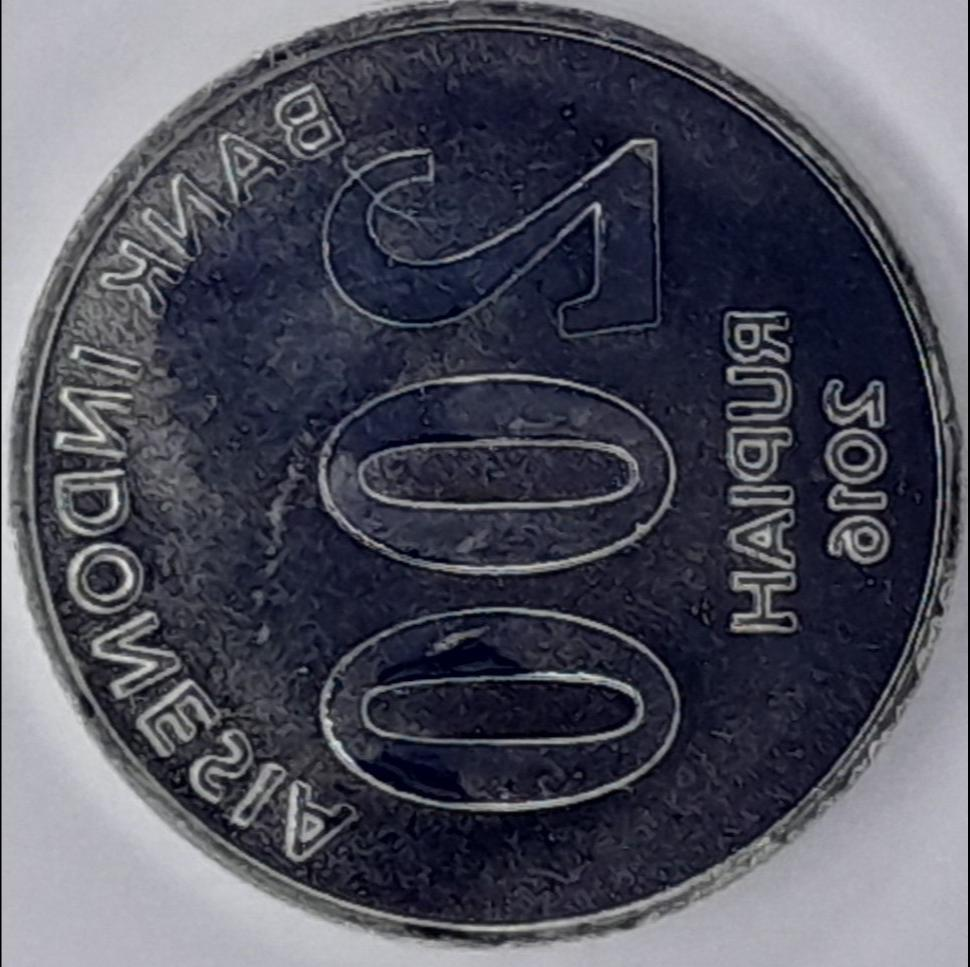coin_200_e2016: (0, 17, 970, 967)
